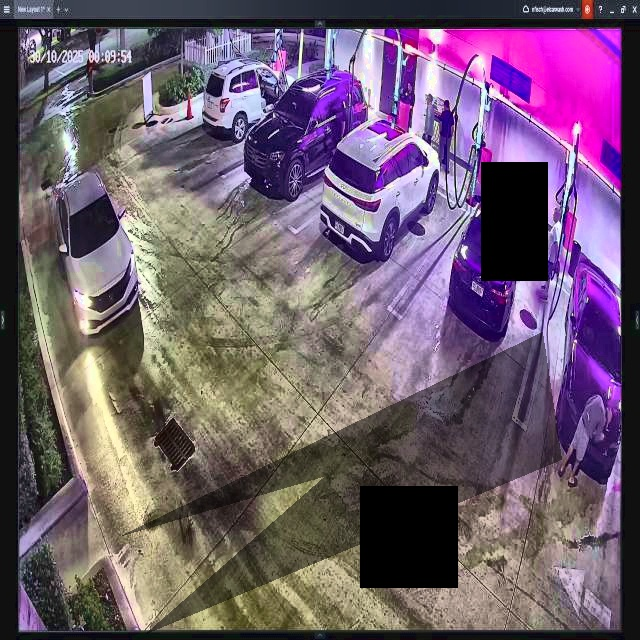Car: (323, 115, 437, 257), (246, 70, 369, 190), (445, 190, 530, 337)
